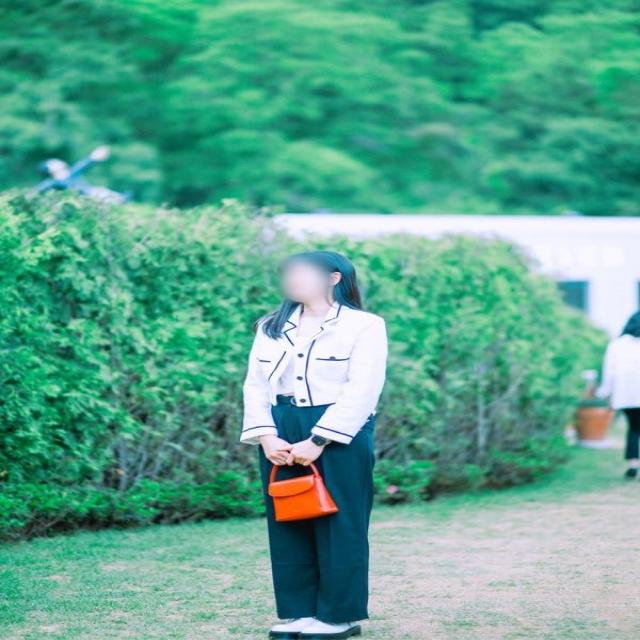blazer: (241, 298, 390, 448)
slacks: (262, 400, 376, 626)
